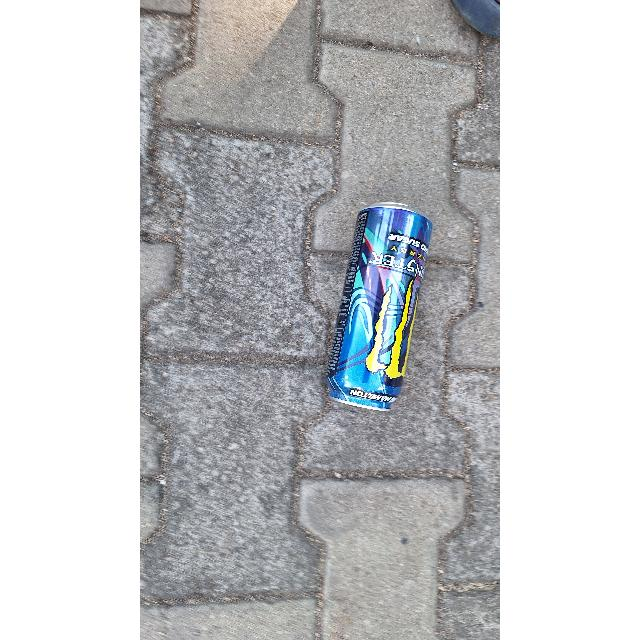Monster LH44: (325, 206, 437, 414)
